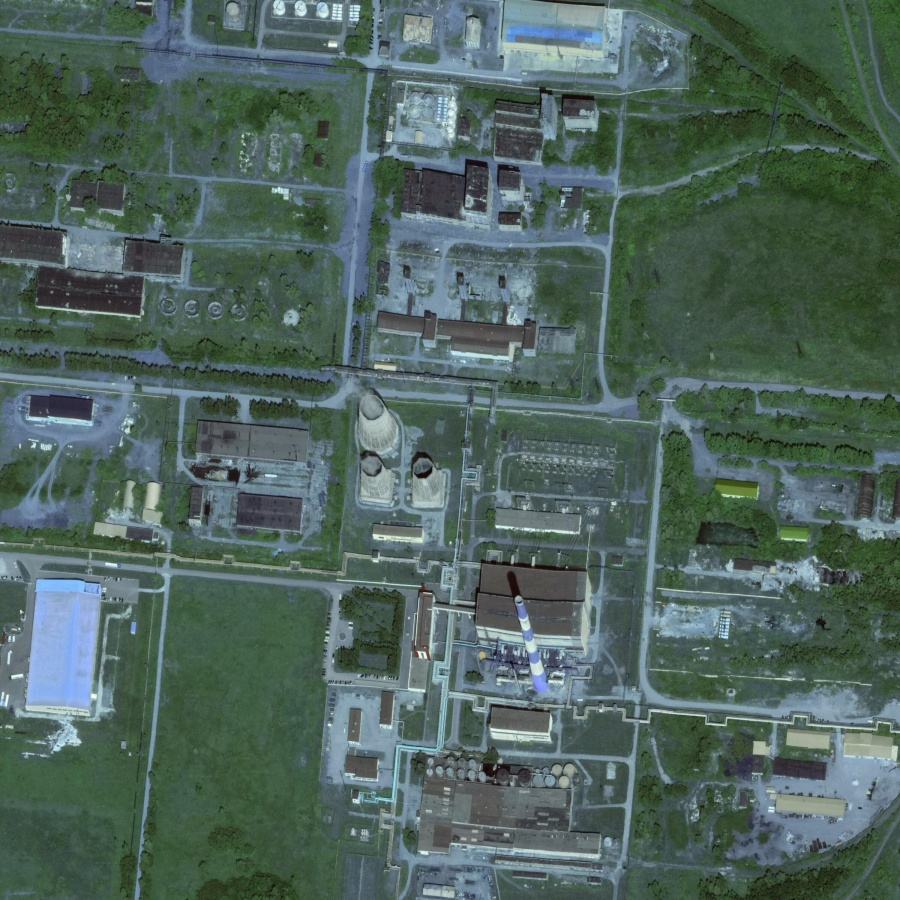PowerPlant: (329, 384, 622, 743)
